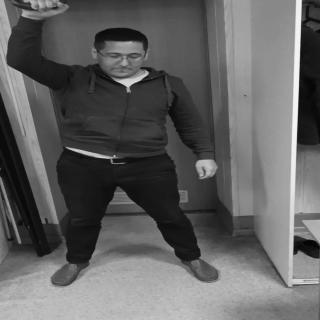girya: (9, 1, 72, 11)
